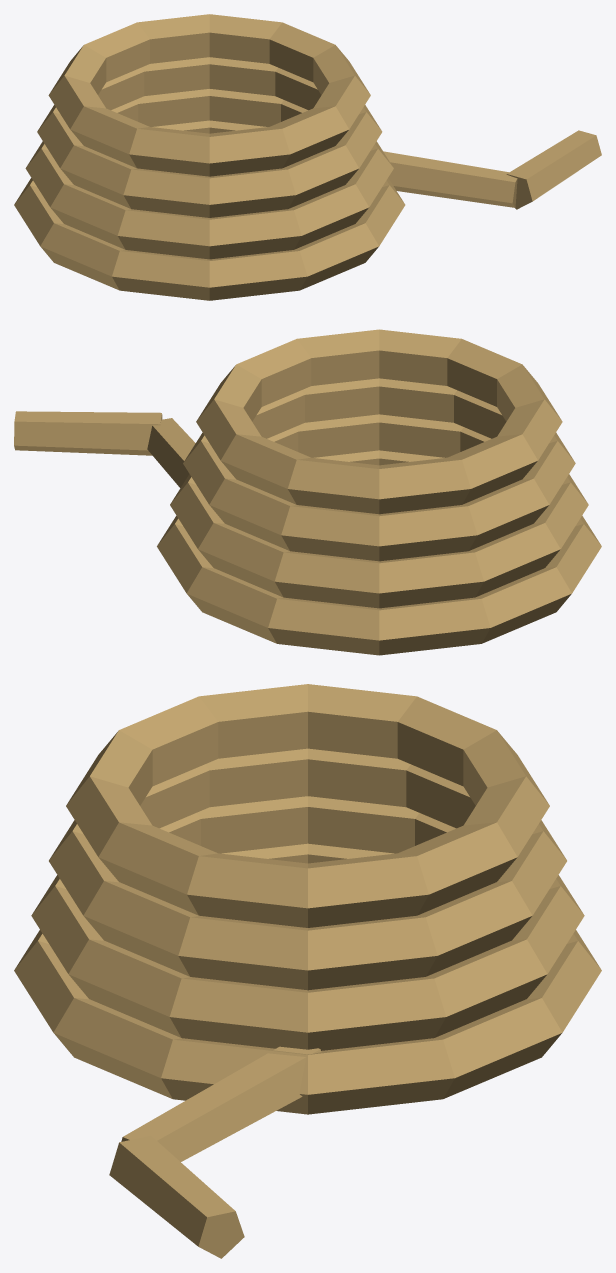
Rendered from rope.glb.
The picture shows the model from 3 angles, top to bottom: view 1: azimuth 30°, elevation 25°; view 2: azimuth 150°, elevation 25°; view 3: azimuth 270°, elevation 25°; orthographic projection. The views are drawn at different scales.
Parts seen in each view (by area): view 1: rope; view 2: rope; view 3: rope.
Part boxes in pixels (x1,y1,x2,y2): rope: (14, 14, 601, 300); rope: (14, 329, 601, 655); rope: (14, 684, 601, 1258).
Size of the model in its own units: 1.05 by 0.293 by 0.68.
